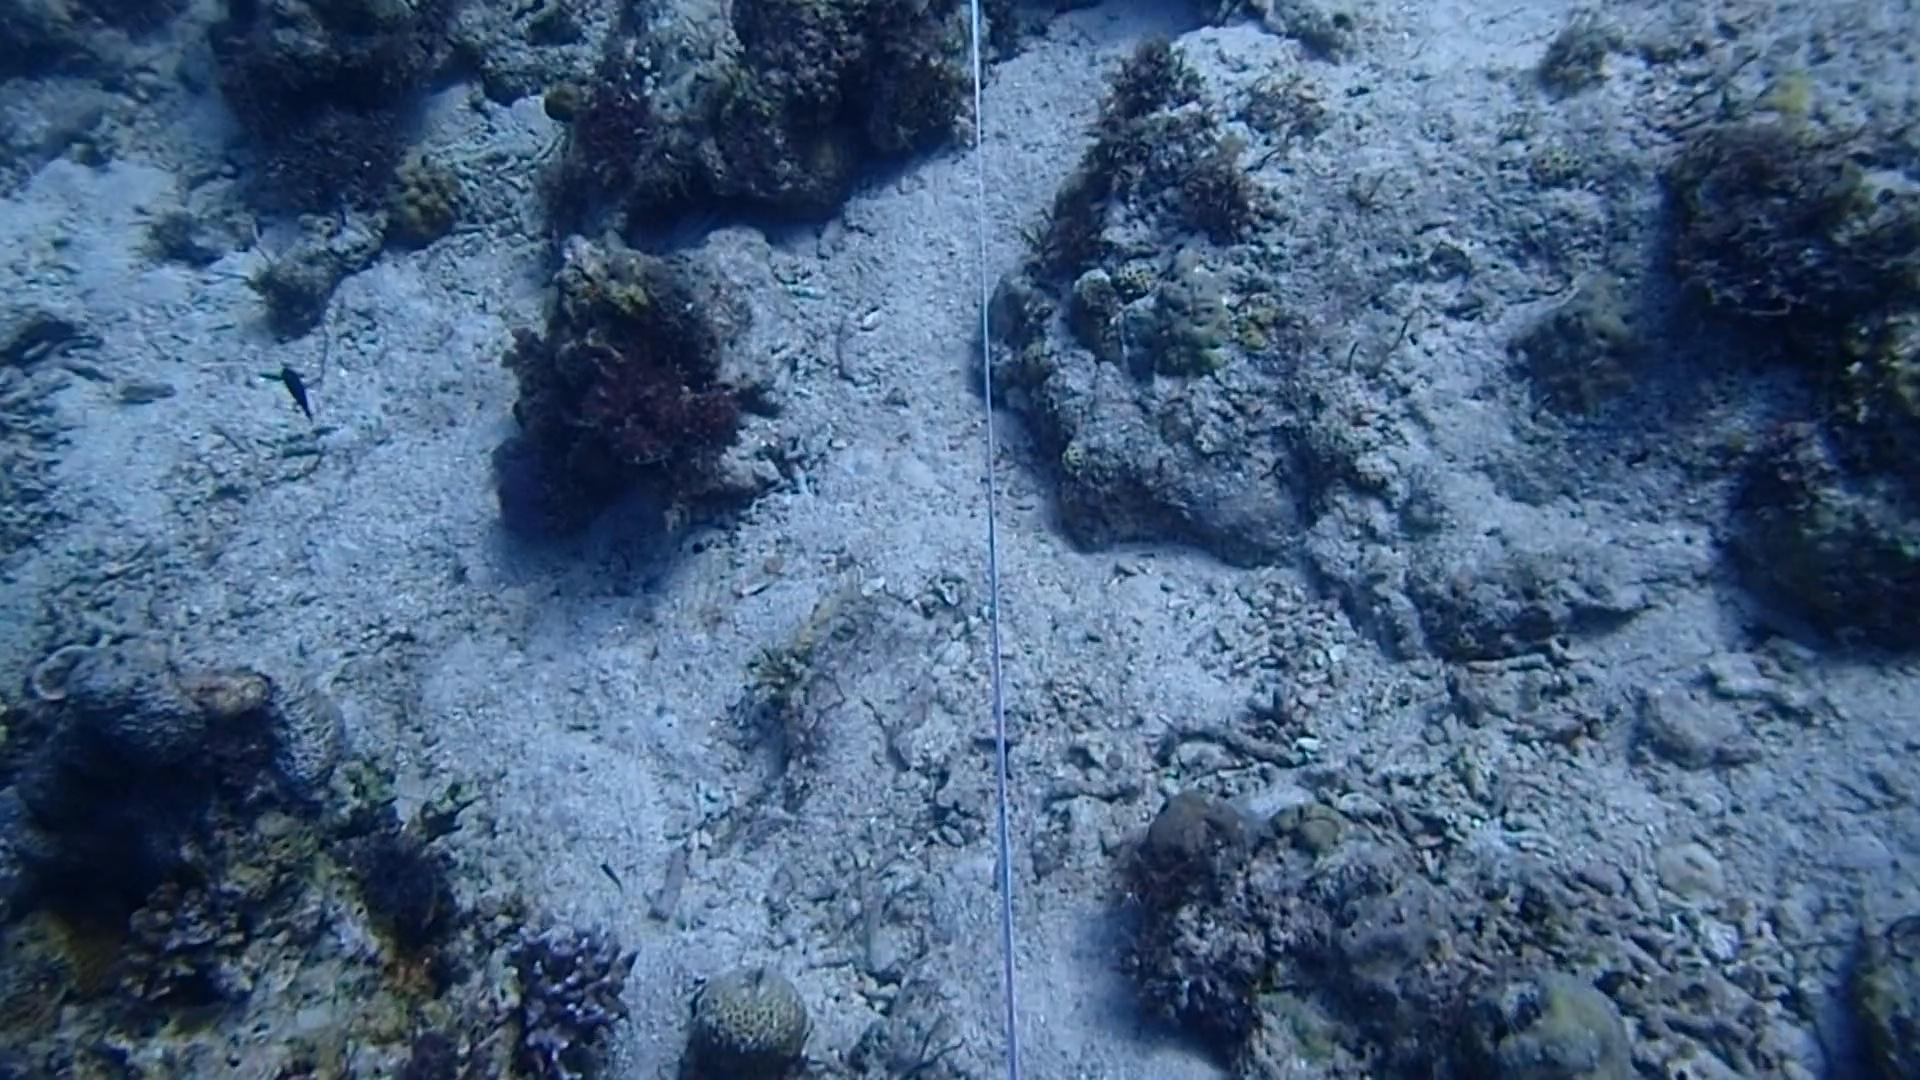Dark Fish: (266, 352, 326, 427)
